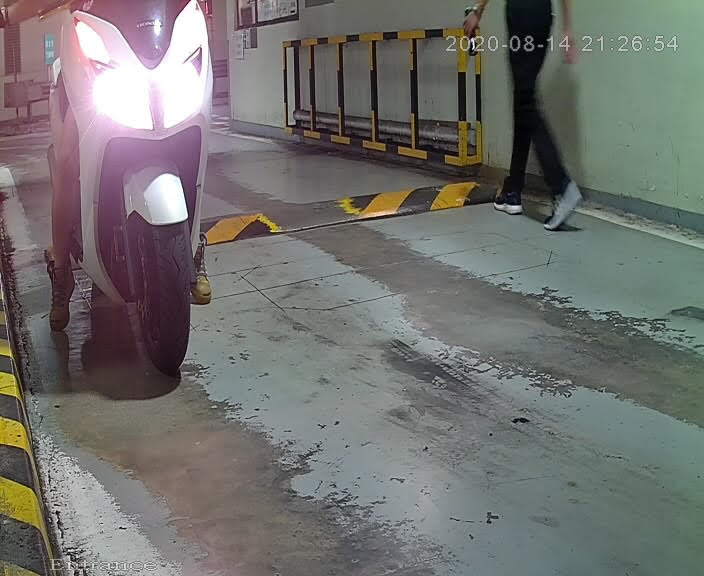motorcycle: (1, 1, 232, 393)
